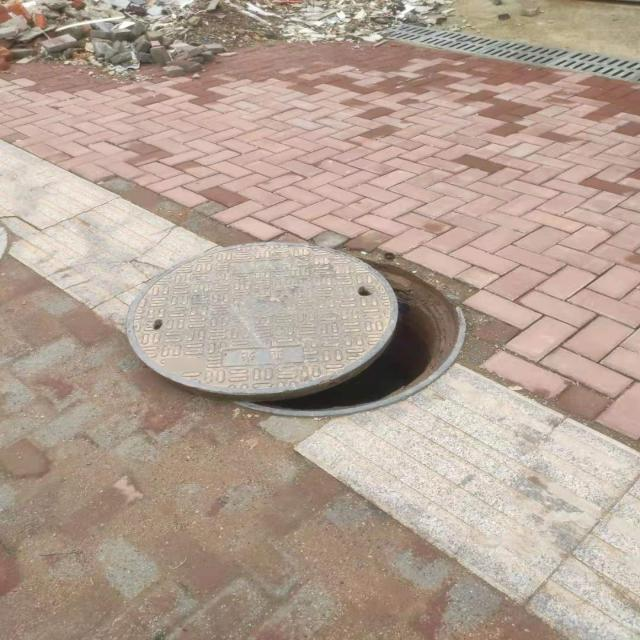Faulty: (126, 240, 468, 418)
